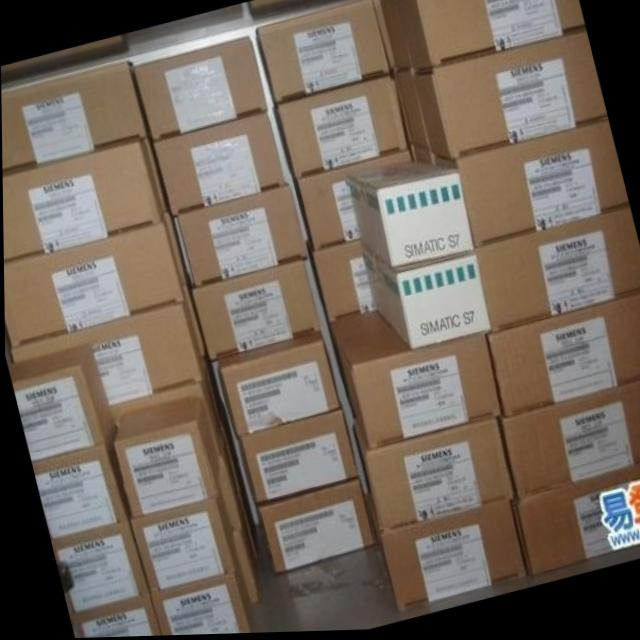box: (412, 31, 607, 164), (328, 308, 501, 454), (3, 219, 184, 347), (454, 122, 627, 249), (10, 298, 203, 405), (475, 209, 640, 334), (2, 141, 168, 263), (486, 298, 640, 422), (362, 417, 514, 531), (1, 61, 151, 172), (378, 500, 527, 609), (500, 385, 640, 500), (132, 36, 267, 141), (171, 185, 308, 288), (345, 161, 473, 270), (398, 0, 585, 74), (513, 472, 640, 580), (153, 115, 285, 218), (258, 0, 390, 102), (364, 249, 494, 352), (214, 332, 339, 439), (191, 259, 320, 362), (111, 395, 218, 519), (6, 344, 113, 464), (277, 78, 406, 177), (291, 150, 412, 252), (128, 493, 238, 595), (256, 480, 371, 574), (239, 413, 353, 507), (107, 367, 221, 460), (49, 524, 149, 621), (31, 446, 126, 541), (149, 574, 251, 636), (308, 241, 372, 323), (396, 70, 432, 166), (70, 600, 158, 638), (231, 522, 263, 607), (377, 0, 412, 77), (217, 429, 241, 531)
